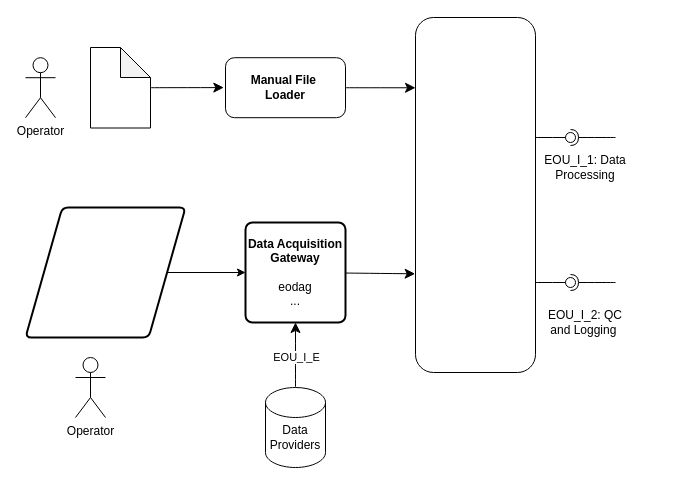
Some shapes in this 673 by 485 pixel diagram are drawn without their labels. Here are the shapes that lost their labels. From the top down, the centre of each, then its label:
At point (120, 87): "Files".
At point (475, 194): "Data Extraction".
At point (105, 272): "Search Filter Data provider Data product Area of interest Time window ...".
